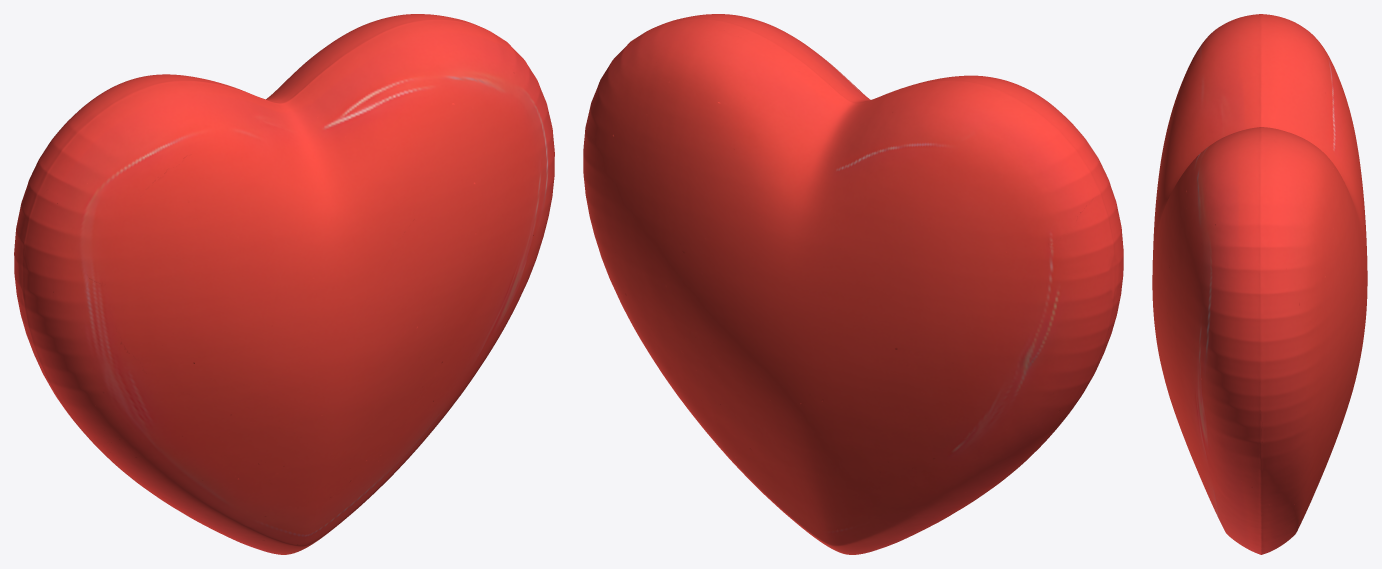
Rendered from HEART.glb.
3 views of the same model, side by side, from view 1: azimuth 30°, elevation 25°; view 2: azimuth 150°, elevation 25°; view 3: azimuth 270°, elevation 25° (orthographic). The views are drawn at different scales.
Parts seen in each view (by area): view 1: texture_pbr_v128; view 2: texture_pbr_v128; view 3: texture_pbr_v128.
Part boxes in pixels (x1,y1,x2,y2): texture_pbr_v128: (14, 14, 554, 554); texture_pbr_v128: (583, 14, 1123, 554); texture_pbr_v128: (1152, 14, 1367, 554).
Size of the model in its own units: 1.05 by 0.9629 by 0.402.
Materials: 1 (1 with a texture image).
